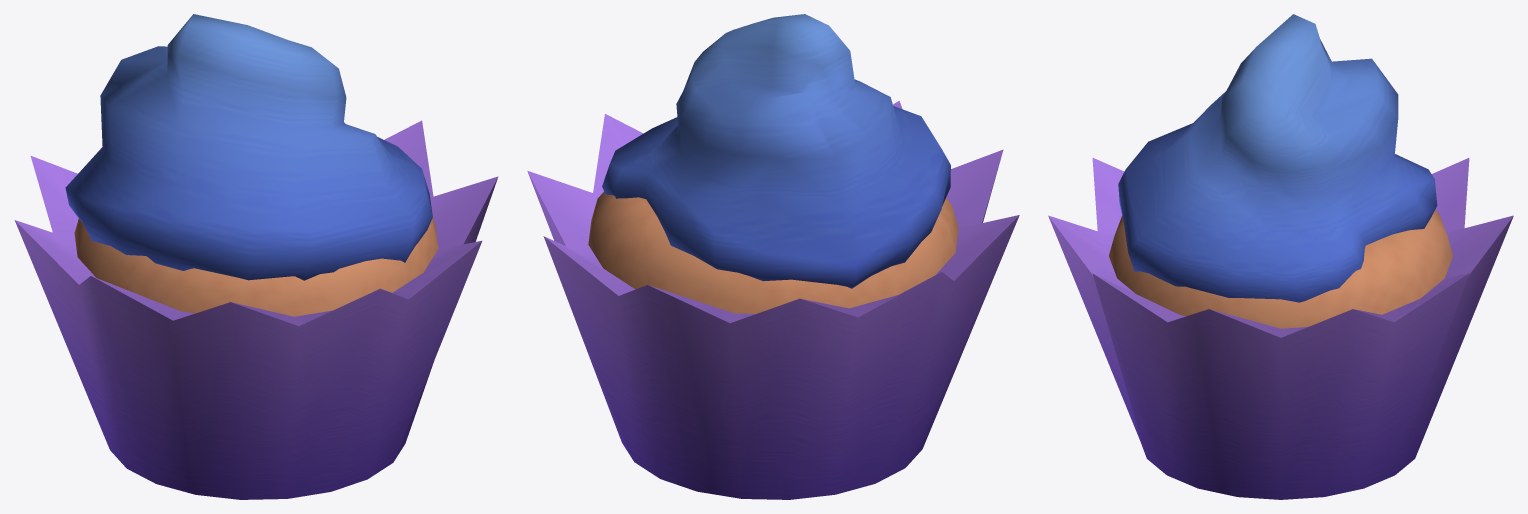
File: SM_CUPCAKE_01.fbx
3 renders of one model, left to right at view 1: azimuth 30°, elevation 25°; view 2: azimuth 150°, elevation 25°; view 3: azimuth 270°, elevation 25°, orthographic. The views are drawn at different scales.
Parts seen in each view (by area): view 1: CUPCAKE_01; view 2: CUPCAKE_01; view 3: CUPCAKE_01.
Part boxes in pixels (x1=…): CUPCAKE_01: x1=14, y1=14, x2=498, y2=499; CUPCAKE_01: x1=527, y1=14, x2=1019, y2=499; CUPCAKE_01: x1=1048, y1=14, x2=1513, y2=499.
Bounding box in the file's own units: 152 × 151 × 160.
1 material, 1 textured.
